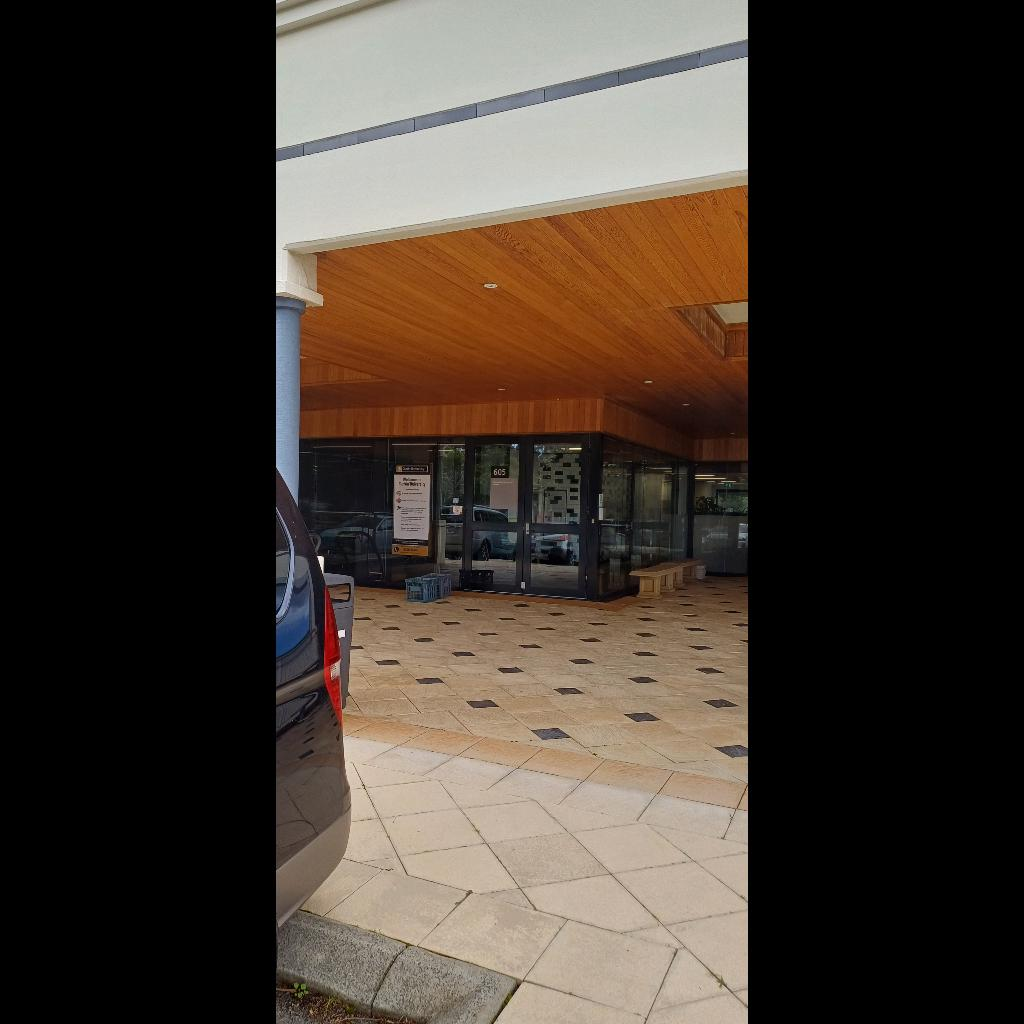BuildingCodes: (492, 468, 508, 478)
